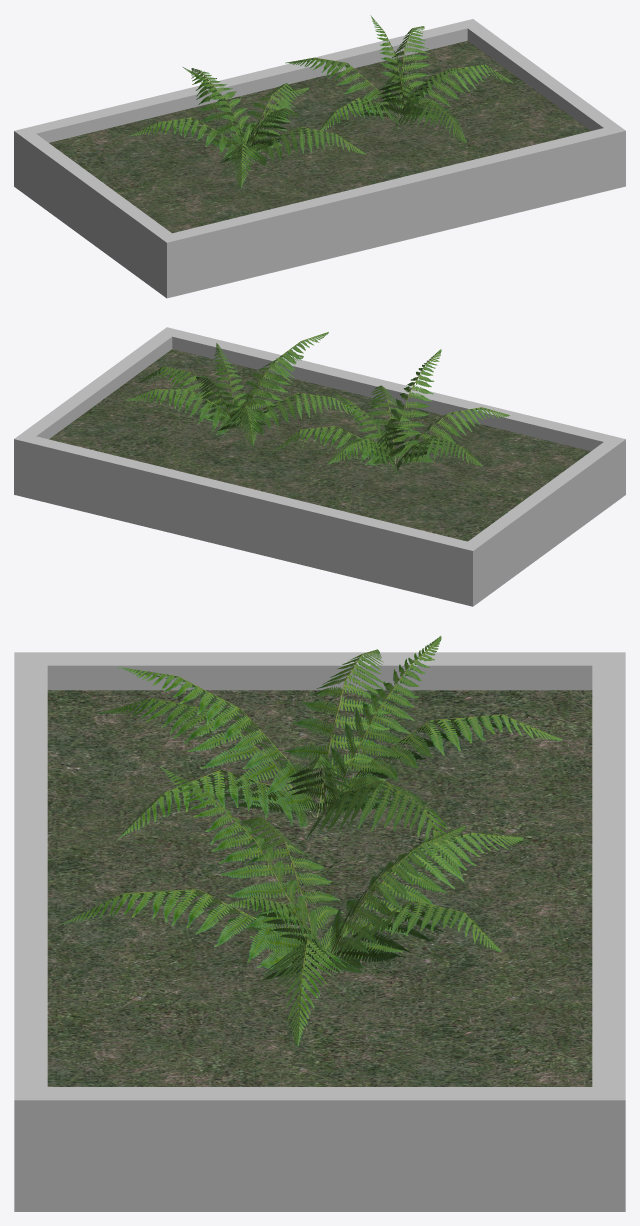
The model's file is Flowerbed-01c.fbx.
The picture shows the model from 3 angles, top to bottom: view 1: azimuth 30°, elevation 25°; view 2: azimuth 150°, elevation 25°; view 3: azimuth 270°, elevation 25°; orthographic projection. The views are drawn at different scales.
Parts seen in each view (by area): view 1: Flowerbed-01c, Flowerbed-01c.Grass; view 2: Flowerbed-01c, Flowerbed-01c.Grass; view 3: Flowerbed-01c, Flowerbed-01c.Grass.
Boxes of the visible parts, <box> form: Flowerbed-01c: <box>14,15,625,298</box>; Flowerbed-01c.Grass: <box>49,40,590,233</box>; Flowerbed-01c: <box>14,327,625,606</box>; Flowerbed-01c.Grass: <box>49,349,590,541</box>; Flowerbed-01c: <box>14,636,625,1211</box>; Flowerbed-01c.Grass: <box>47,690,592,1086</box>.
Size of the model in its own units: 6.72 by 1.76 by 3.88.
